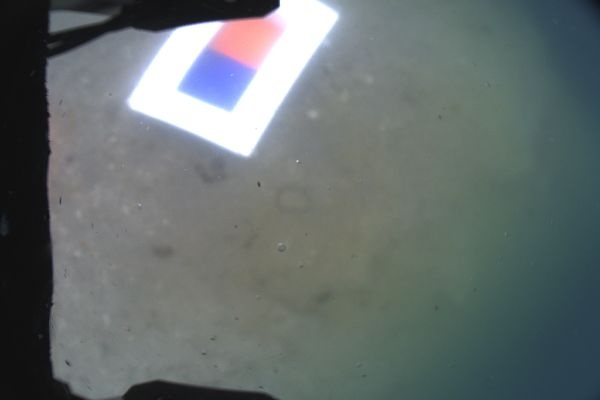bin: (126, 0, 338, 156)
bin_bleue: (178, 49, 254, 110)
bin_rouge: (208, 18, 282, 68)
